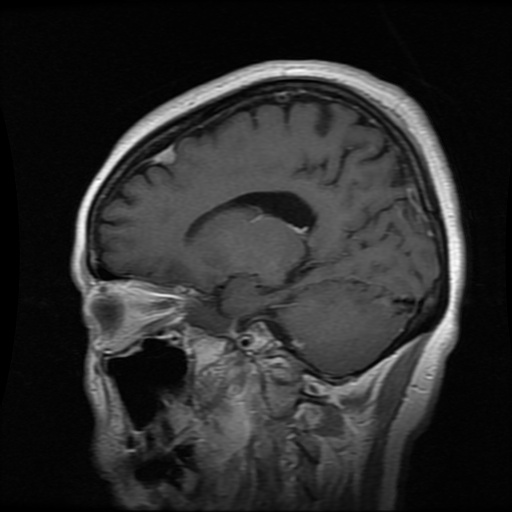meningioma: (154, 146, 176, 163)
